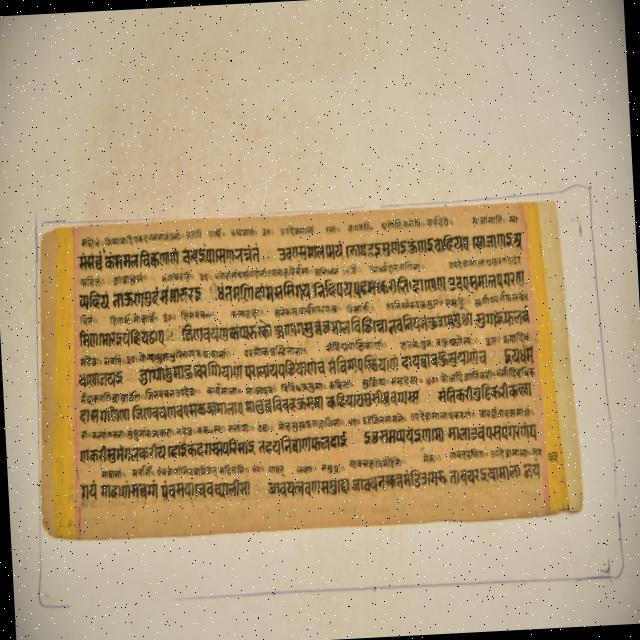text_paragraph: (38, 200, 581, 540)
